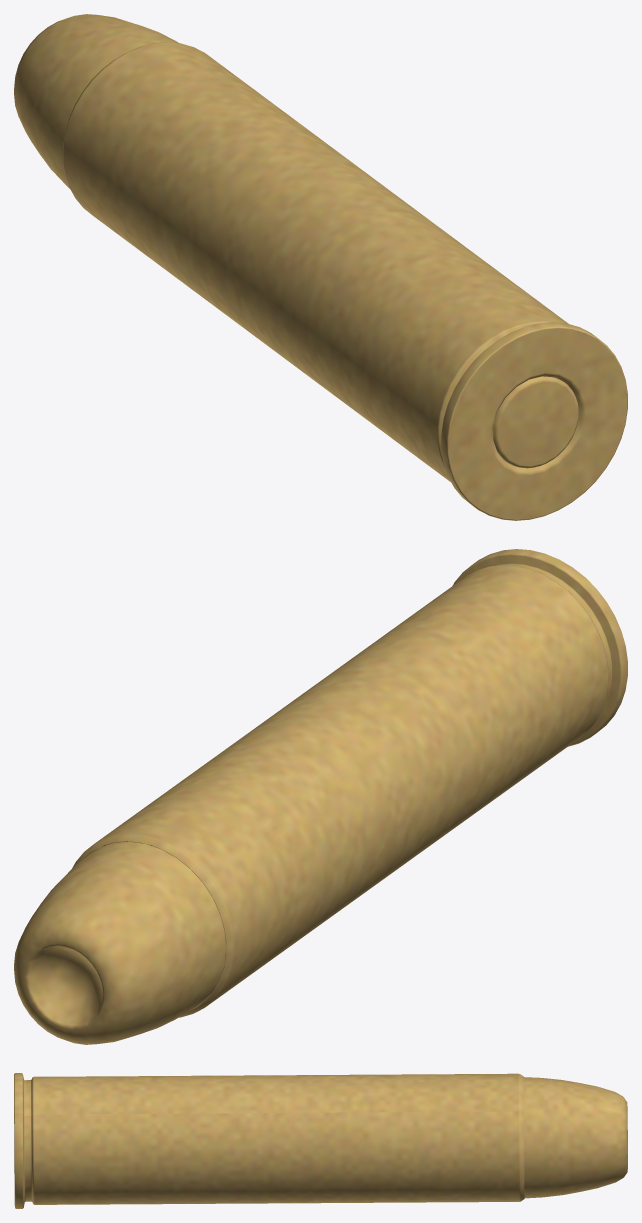
The model's file is brbullet.obj.
3 views of the same model, one above another, from view 1: azimuth 30°, elevation 25°; view 2: azimuth 150°, elevation 25°; view 3: azimuth 270°, elevation 25° (orthographic). The views are drawn at different scales.
Visible parts, largest first — view 1: BRBullet_LODGroup_1_MainMesh_1_SubMesh_1_mesh0000.001; view 2: BRBullet_LODGroup_1_MainMesh_1_SubMesh_1_mesh0000.001; view 3: BRBullet_LODGroup_1_MainMesh_1_SubMesh_1_mesh0000.001.
Boxes of the visible parts, x1,y1,x2,y2 form: BRBullet_LODGroup_1_MainMesh_1_SubMesh_1_mesh0000.001: (14,14,627,520); BRBullet_LODGroup_1_MainMesh_1_SubMesh_1_mesh0000.001: (14,549,627,1044); BRBullet_LODGroup_1_MainMesh_1_SubMesh_1_mesh0000.001: (14,1073,627,1208).
Size of the model in its own units: 0.1688 by 0.1689 by 0.7649.
